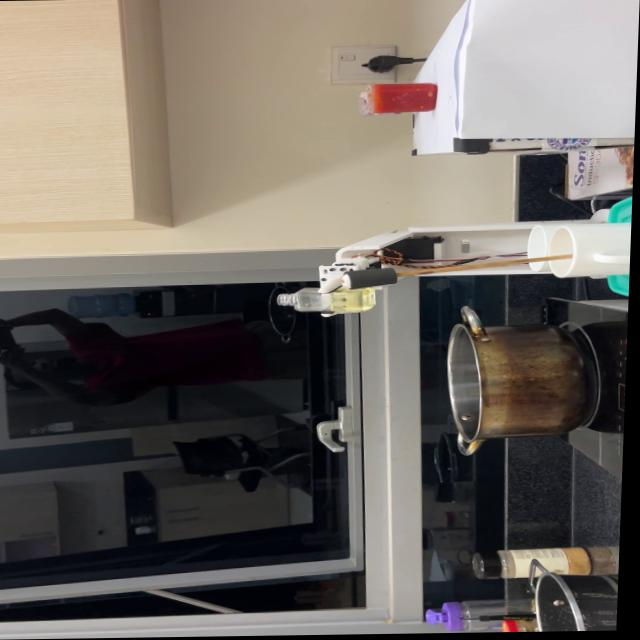blended_tomatoes_pepper: (371, 78, 441, 115)
cooking_pot: (460, 297, 588, 454), (537, 568, 617, 634)
oil: (332, 290, 384, 311)
spatula: (364, 251, 581, 286)
